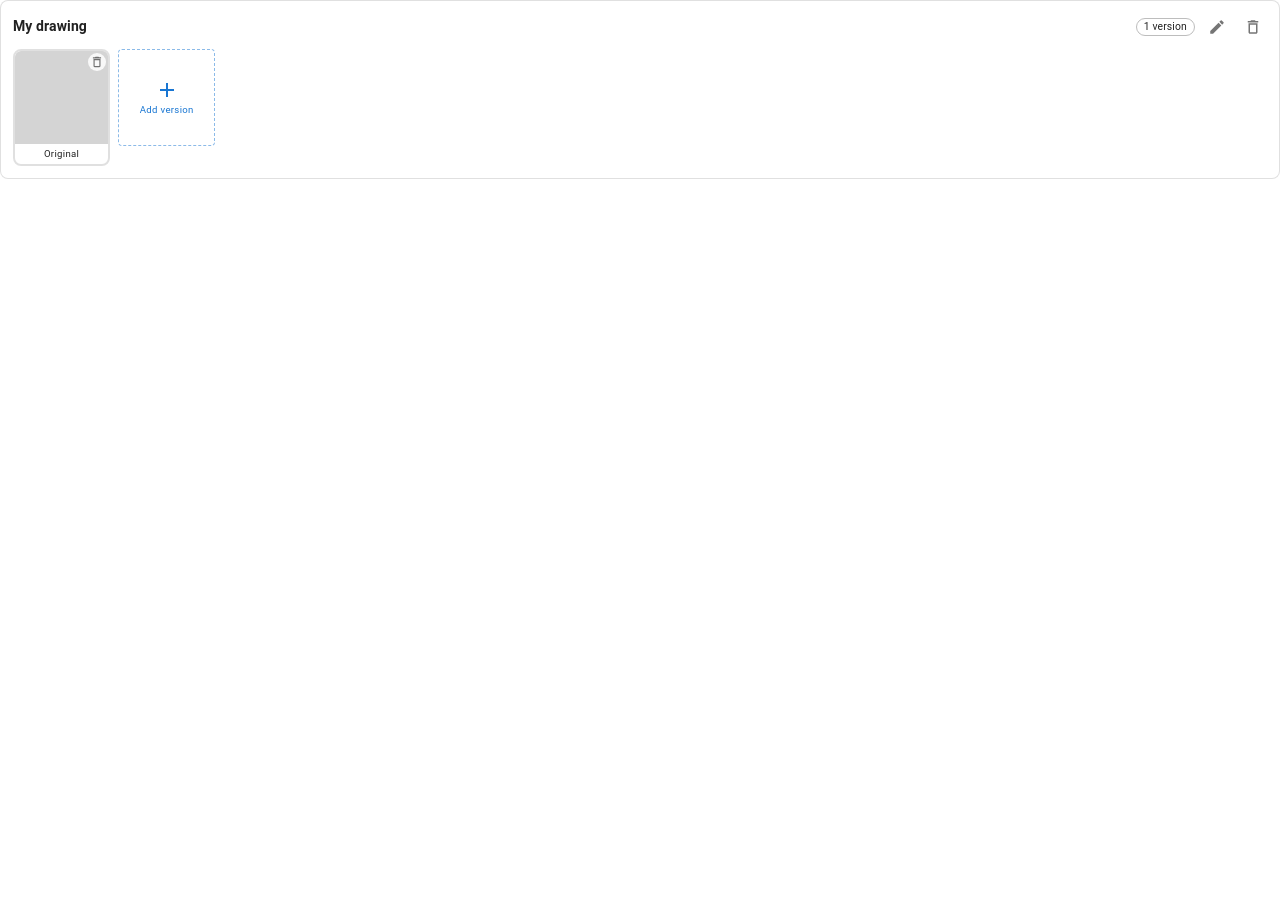
Test: DrawingGroupCard — weekly art cap (FEAT-165 / UX-95) › offers the nudge instead of "Make it" once the kid is at the cap, and spends nothing
This screenshot has width=1280, height=900.
Click the button "Add version".
click(167, 98)  # box [118, 49, 215, 146]
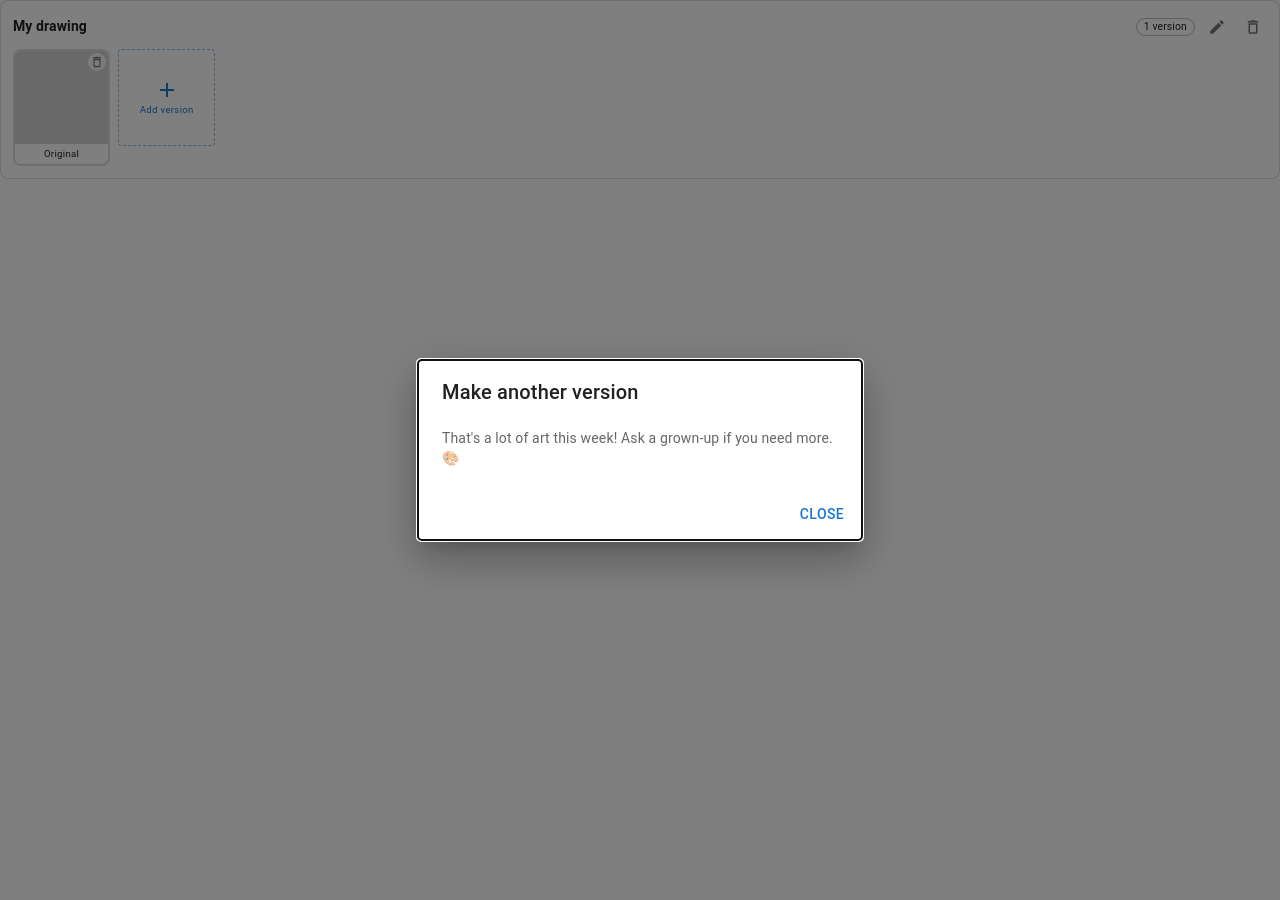
Result: the text "That's a lot of art this week" is shown at [442, 430, 833, 466]
